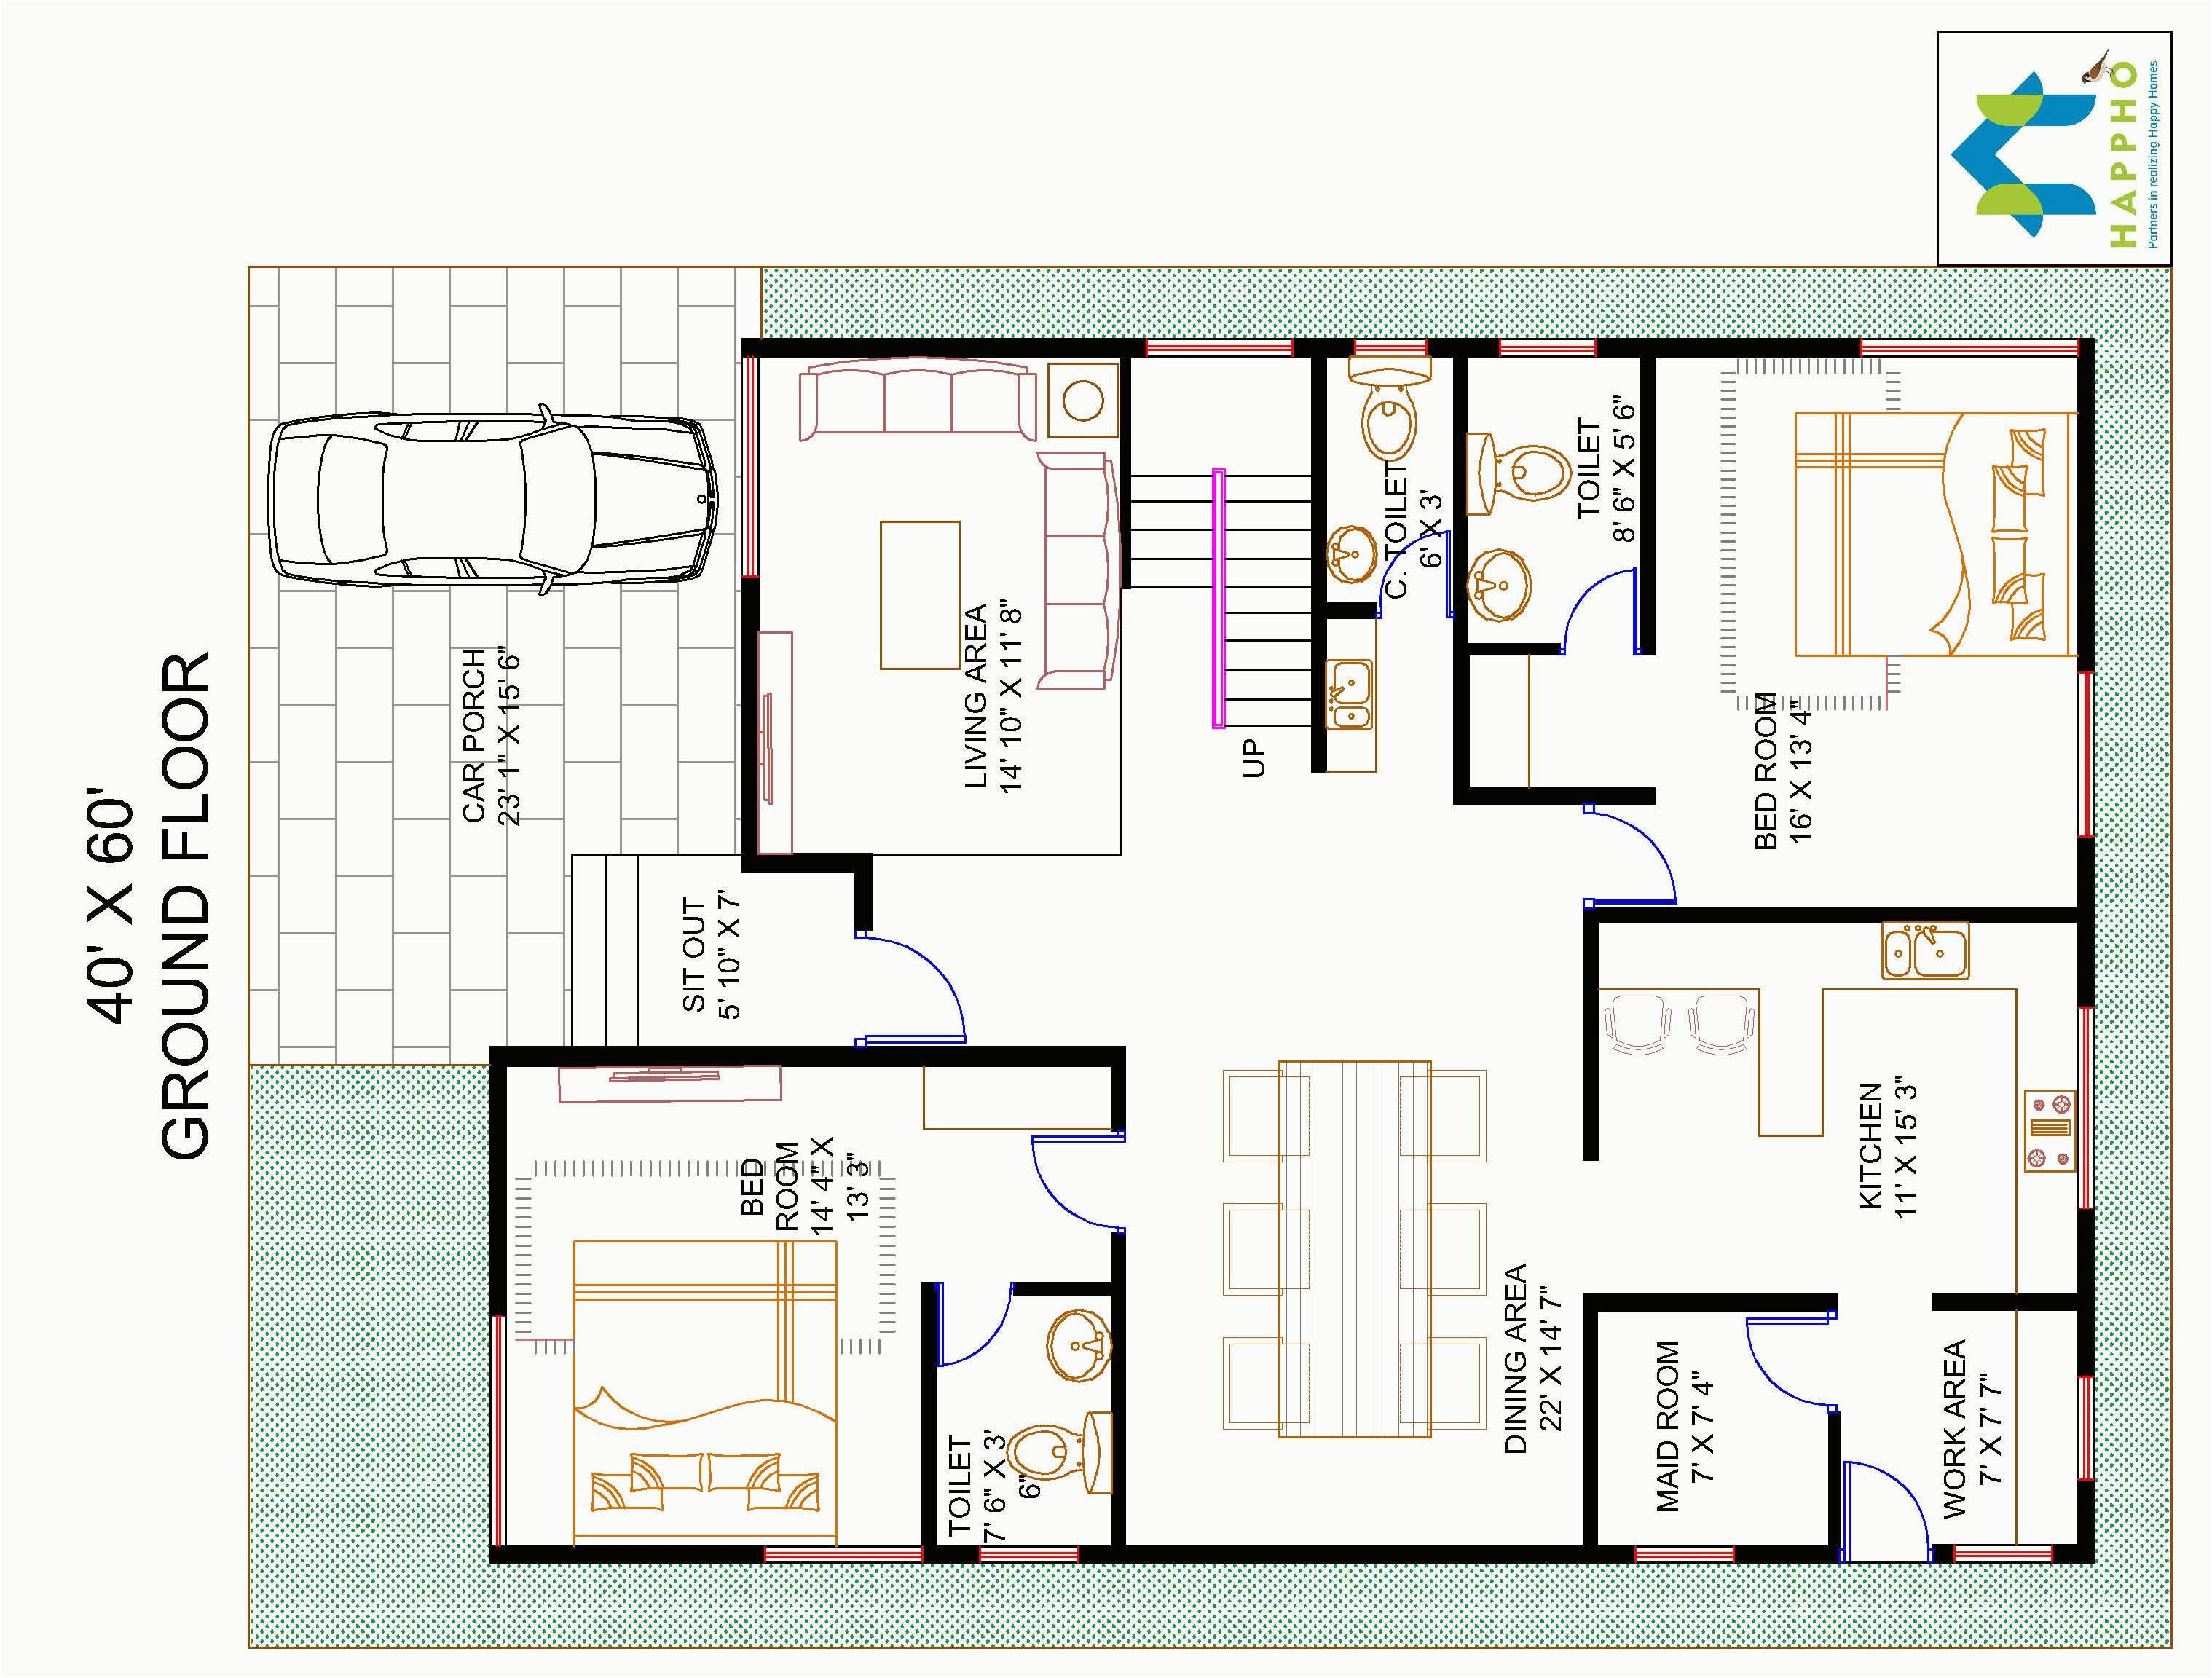window: (1858, 337, 2080, 361), (740, 354, 763, 580), (486, 1311, 508, 1546), (2075, 1003, 2097, 1213), (1142, 335, 1295, 361), (2073, 670, 2096, 839), (763, 1542, 925, 1563), (1949, 1539, 2055, 1565), (1630, 1541, 1736, 1567), (1496, 335, 1599, 361), (2075, 1373, 2096, 1486), (976, 1542, 1082, 1563), (1352, 337, 1431, 358)
